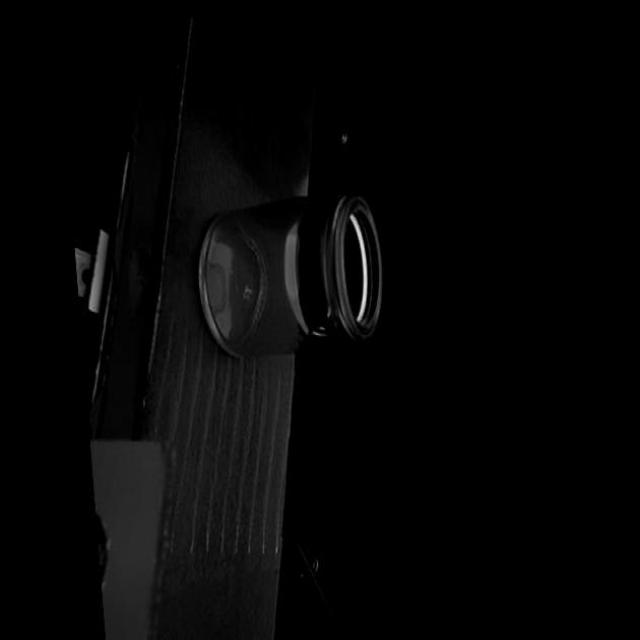defect: (310, 330, 326, 337)
glass: (190, 182, 389, 372)
